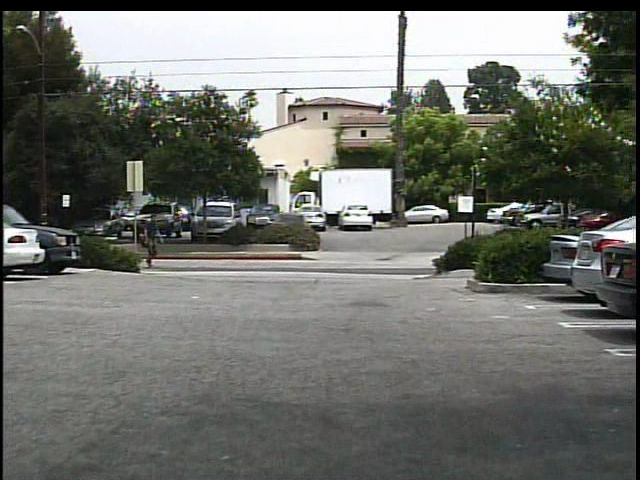person: (141, 214, 167, 273)
